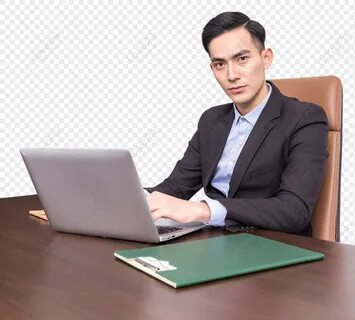awake: (161, 10, 329, 235)
